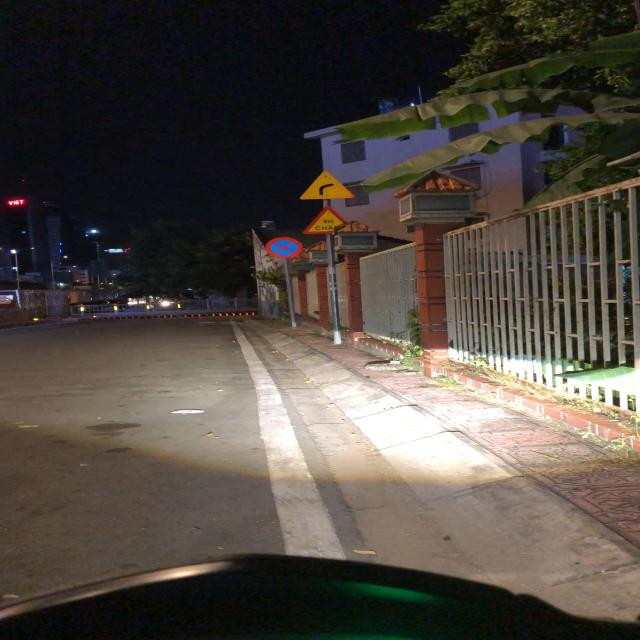Bien bao cam dung xe va do xe: (265, 237, 304, 259)
Bien bao cho ngoat nguy hiem: (300, 170, 356, 201)
Bien bao di cham: (301, 206, 350, 234)
